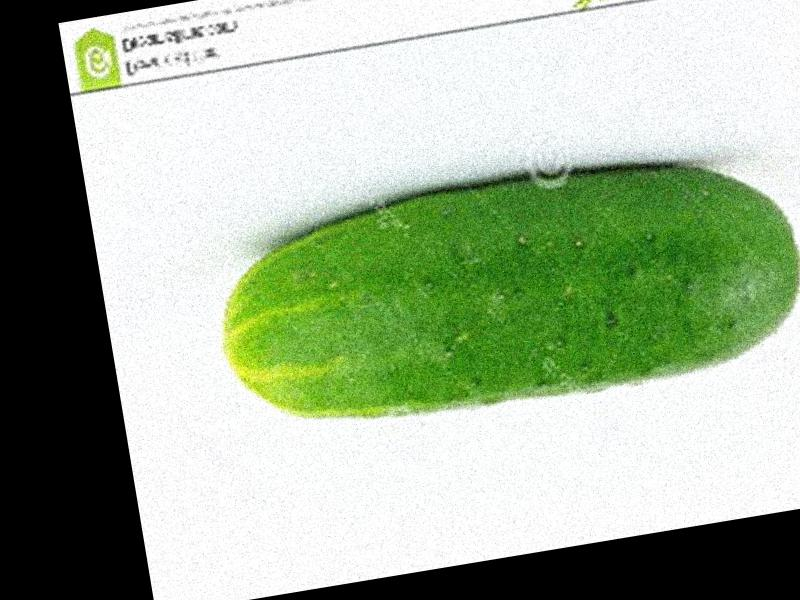Cucumber: (207, 133, 800, 444)
